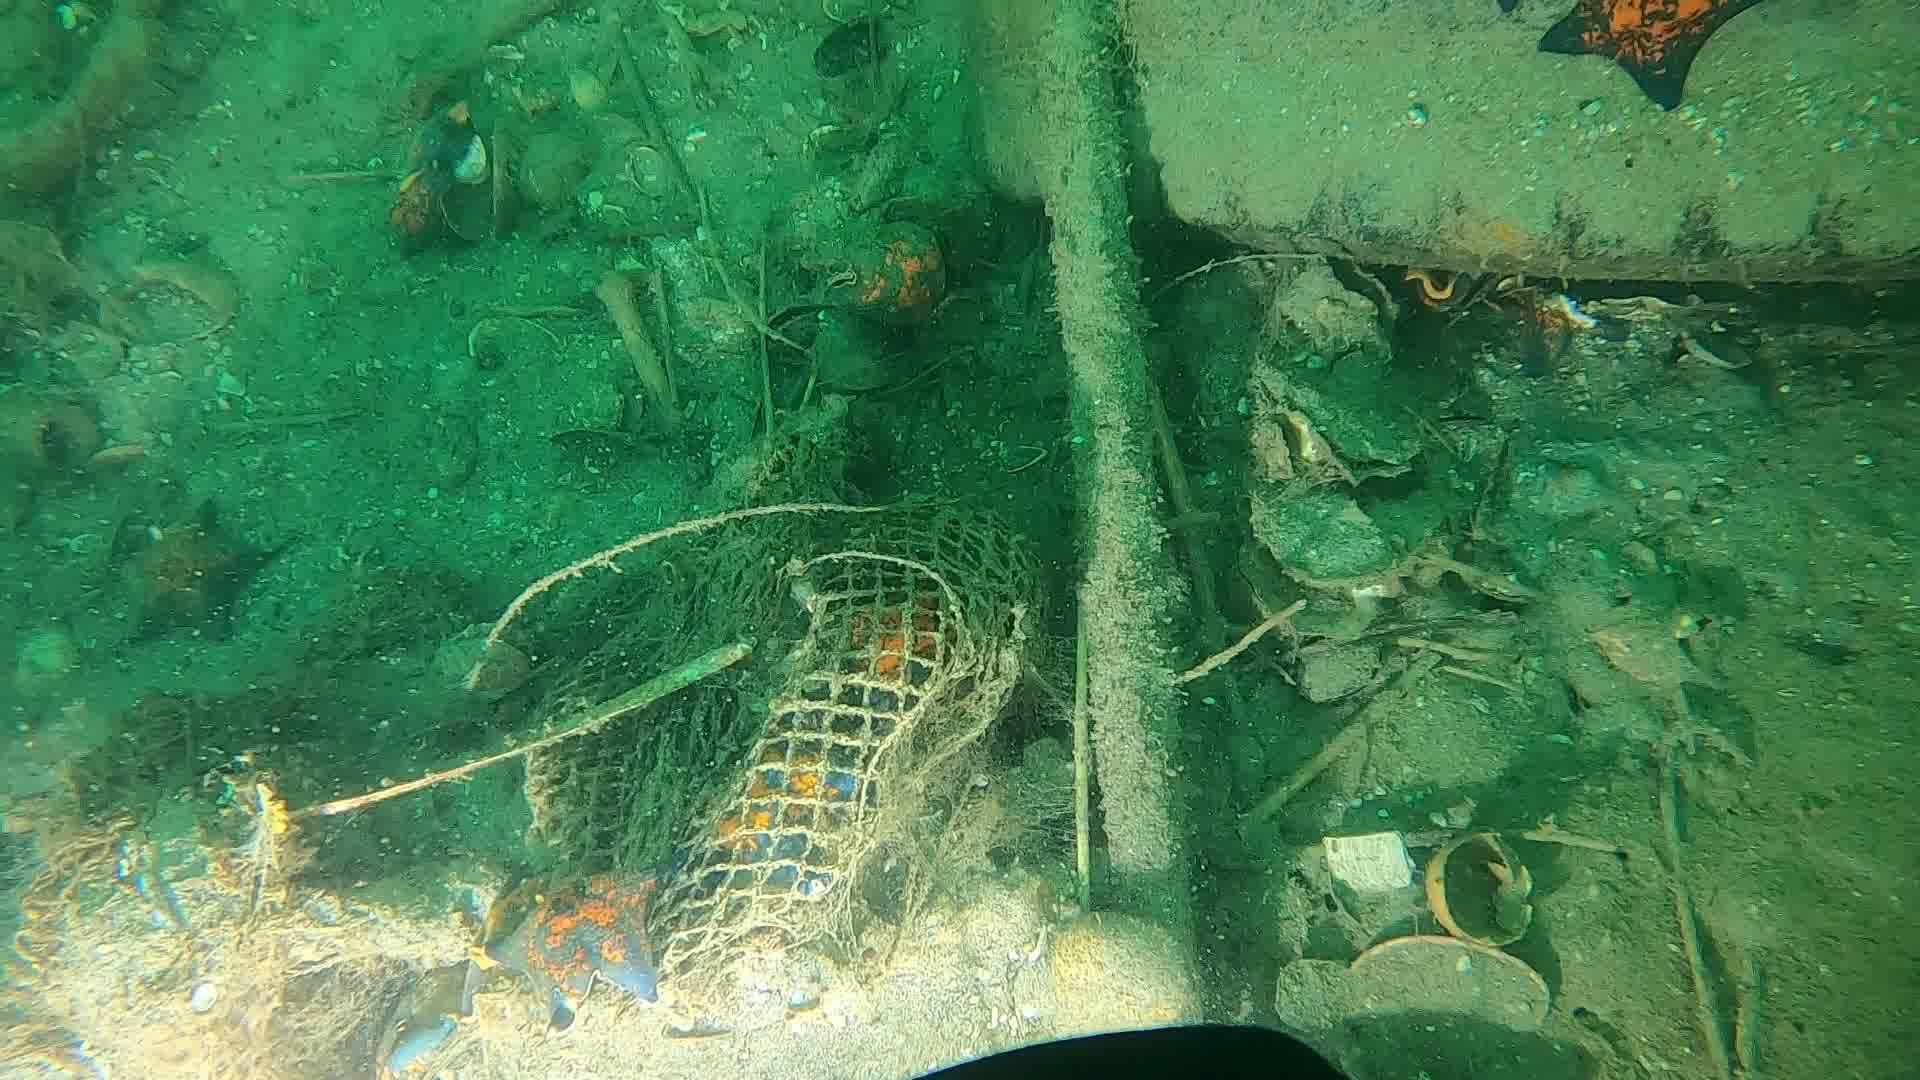fish net: (520, 497, 1036, 982)
